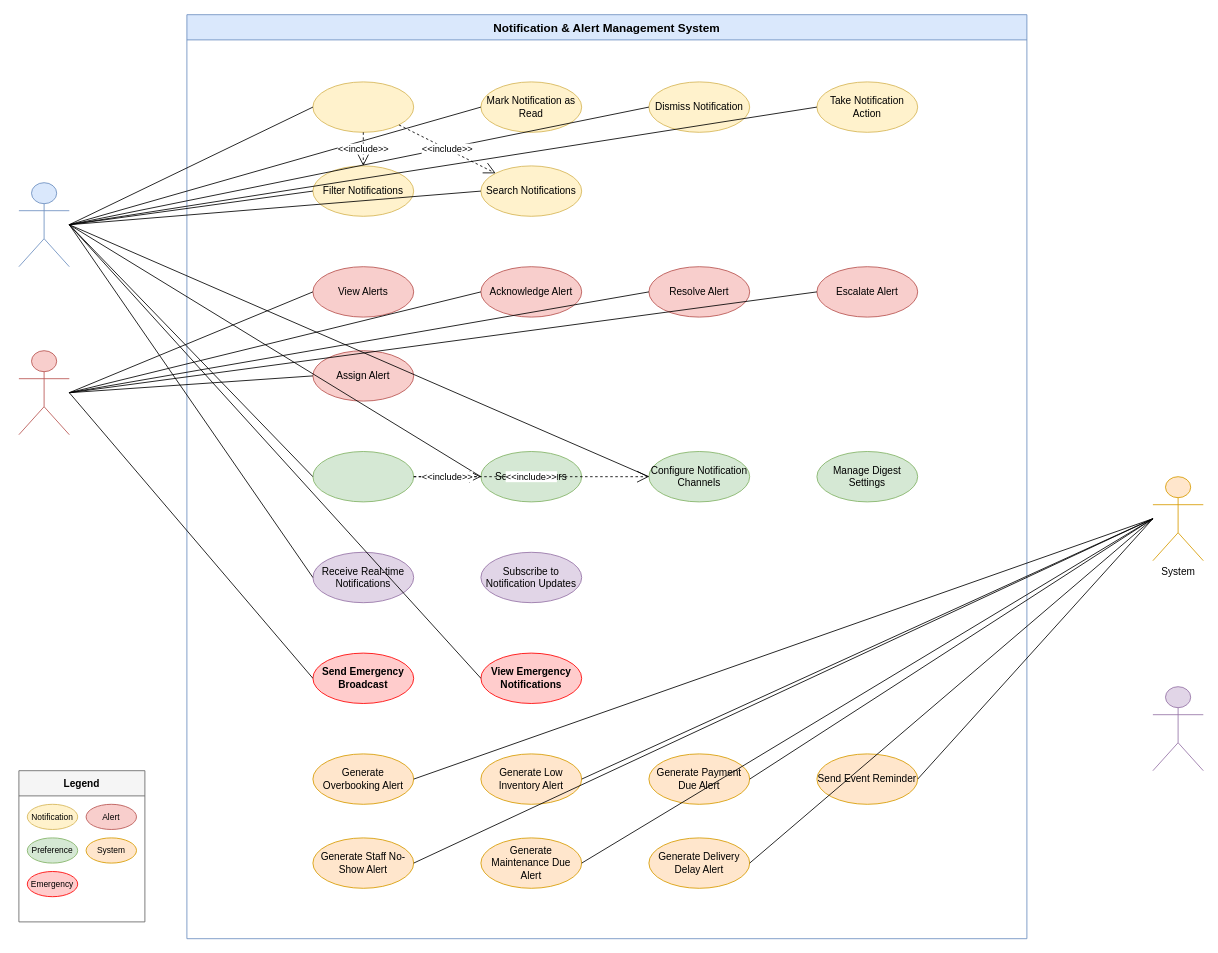
This 1218x953 diagram has some shape labels left out. Here are the shapes that lost their labels. From the top down, the centre of each, then its label:
At (x=363, y=106): "View Notifications".
At (x=43, y=224): "End User".
At (x=43, y=392): "Administrator".
At (x=363, y=476): "Manage Notification Preferences".
At (x=1177, y=728): "AI Service".
